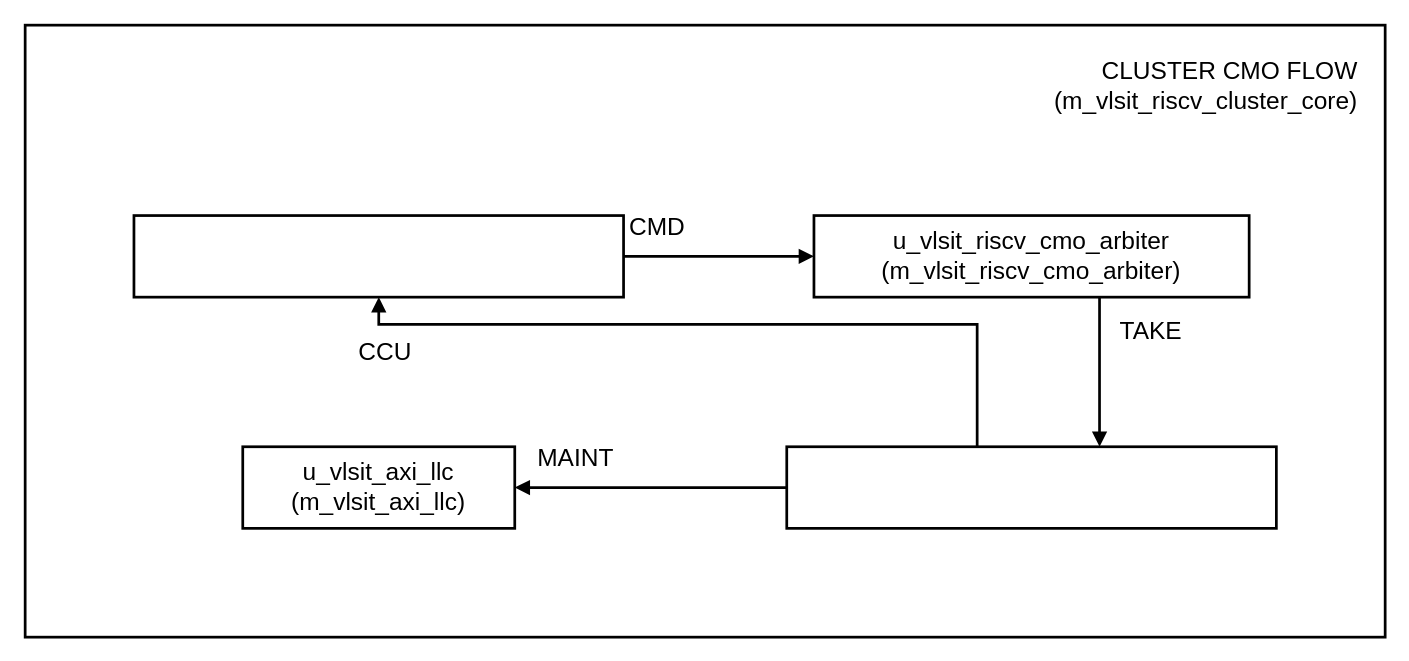
The diagram is 1409 pixels wide and 661 high, and some of its shapes have lost their labels. The box of each missing label's shape, as (x1, y1, x2, y2) in pixels:
u_vlsit_riscv_cmo_controller (m_vlsit_riscv_cmo_controller): (785, 445, 1277, 529)
u_vlsit_riscv_cpu_tile_array (m_vlsit_riscv_cpu_tile_array): (132, 214, 624, 298)
